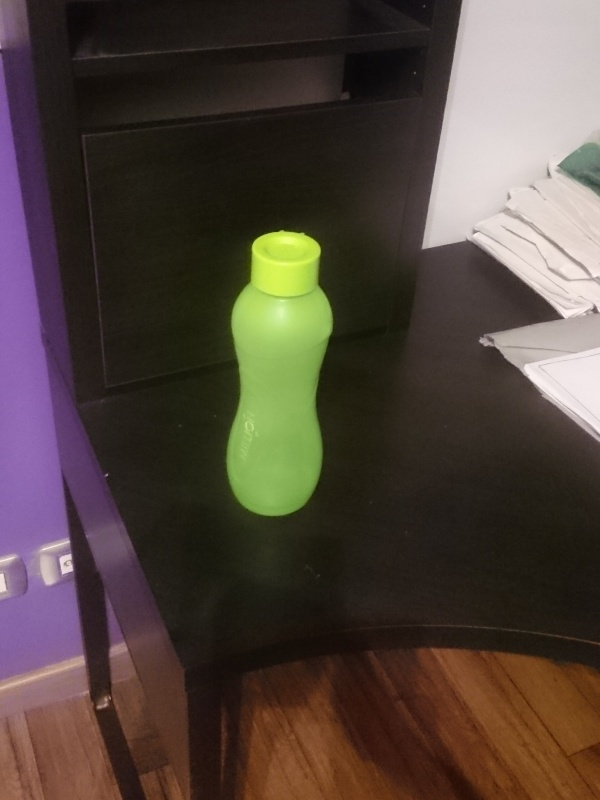my bottle: (223, 230, 334, 515)
